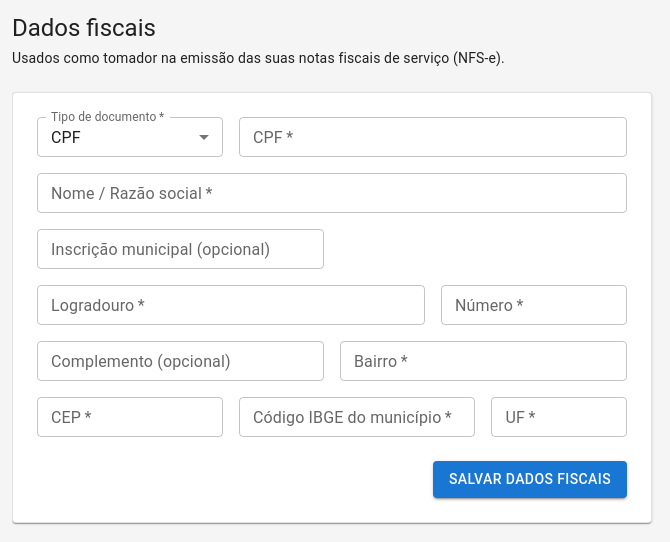
Test case: DadosFiscaisTreinadorPage › preenche endereço e IBGE ao completar 8 dígitos no CEP
The image size is (670, 542).
Expected: the button "Salvar dados fiscais" is shown, [433, 461, 627, 498]
Type "01001000" into the field labelled "CEP *".
click(130, 417); type("01001000")  # box [37, 397, 223, 437]
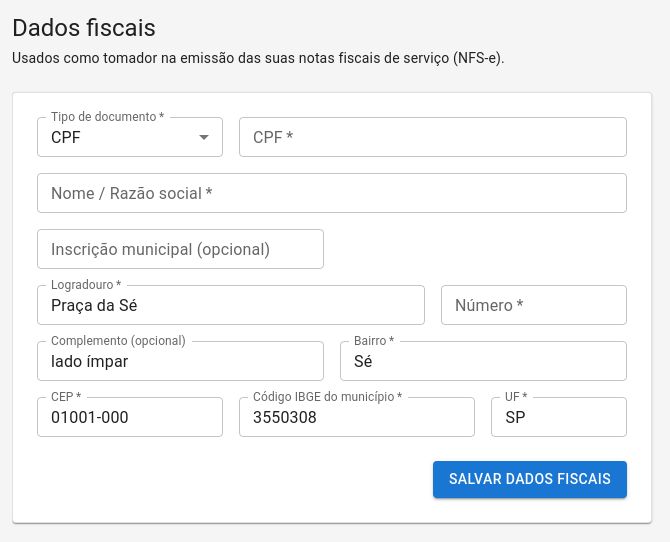
Now the field labelled "Logradouro *" holds "Praça da Sé", box [37, 285, 425, 325]
Now the field labelled "Bairro *" holds "Sé", box [340, 341, 627, 381]
Now the field labelled "UF *" holds "SP", box [492, 397, 627, 437]
